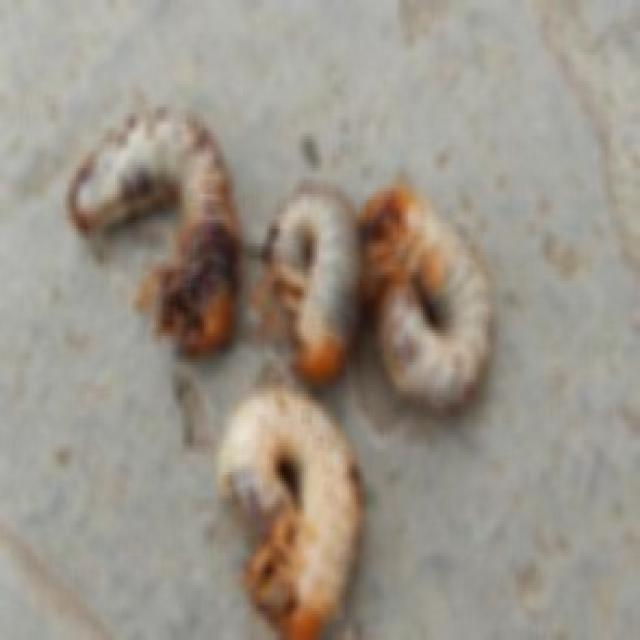grub: (63, 108, 256, 346), (212, 393, 384, 634), (355, 188, 502, 422), (266, 180, 374, 395)
